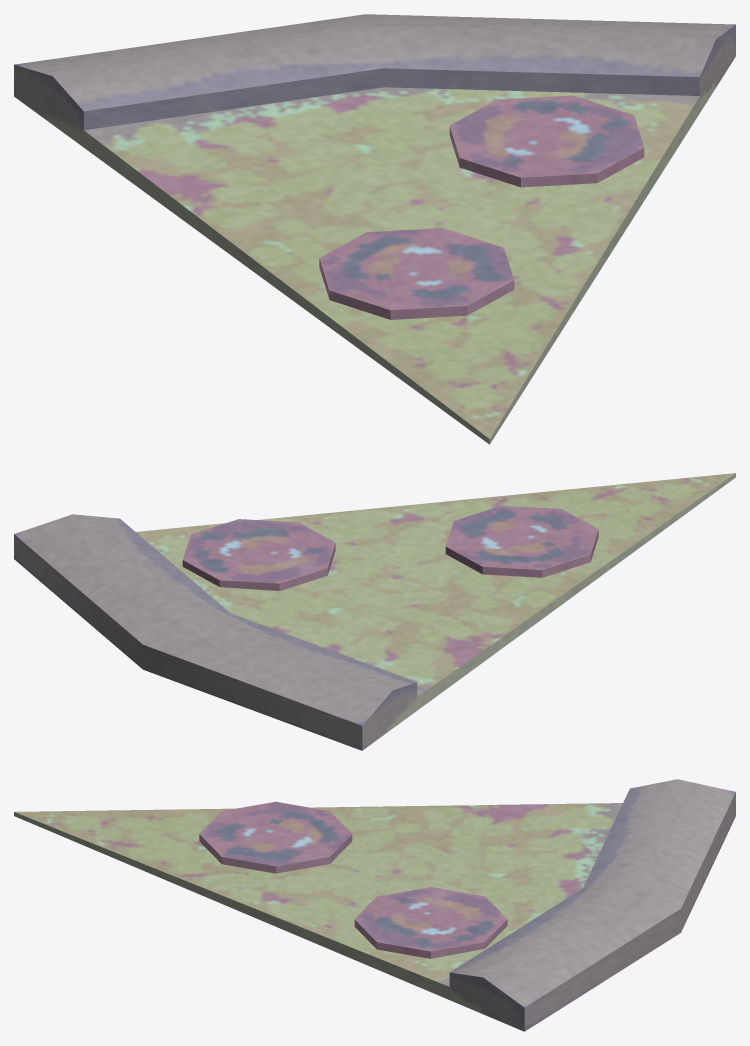
The model's file is Pizza_Uncooked 1.fbx.
3 views of the same model, one above another, from view 1: azimuth 30°, elevation 25°; view 2: azimuth 150°, elevation 25°; view 3: azimuth 270°, elevation 25° (orthographic). The views are drawn at different scales.
Parts seen in each view (by area): view 1: Pizza_Uncooked; view 2: Pizza_Uncooked; view 3: Pizza_Uncooked.
Boxes of the visible parts, <box> form: Pizza_Uncooked: <box>14,14,735,444</box>; Pizza_Uncooked: <box>14,473,735,750</box>; Pizza_Uncooked: <box>14,779,735,1031</box>.
Bounding box in the file's own units: 52.64 × 4.2 × 74.44.
